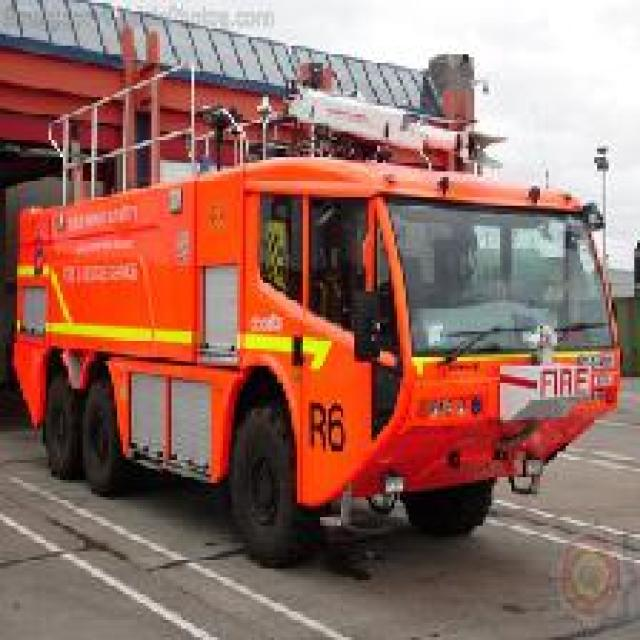Fire-truck: (8, 51, 623, 568)
